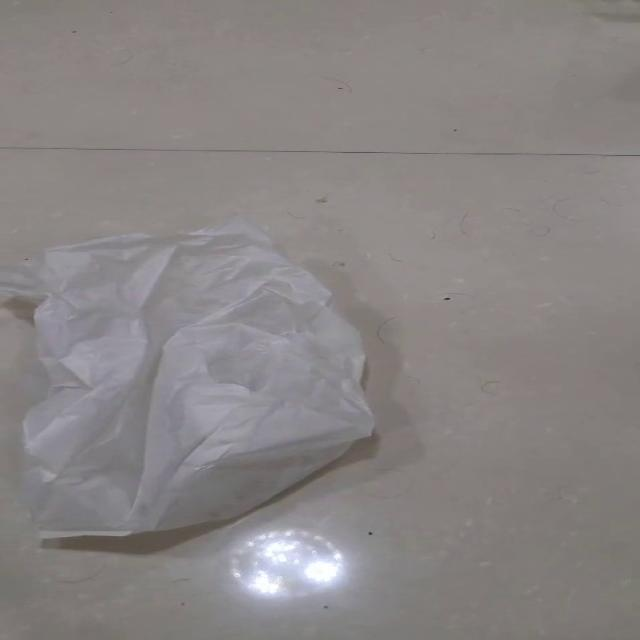plastic: (1, 214, 375, 538)
